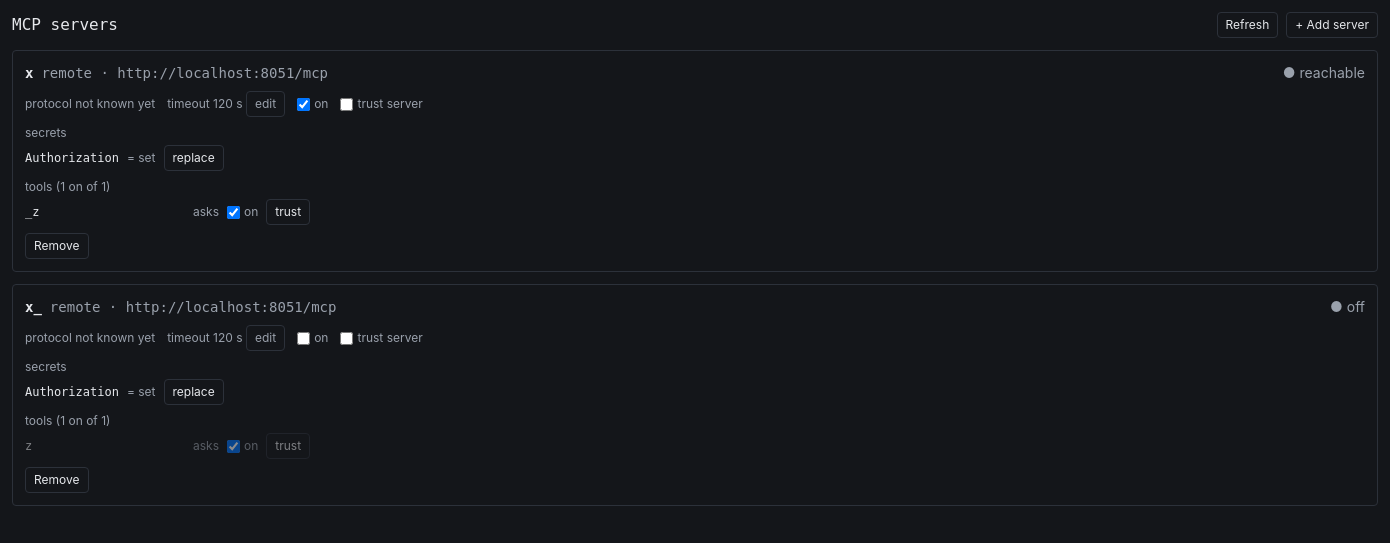
Test case: a tool action names the tool's own server when two servers share a zygos name
Step 1. Click the button "trust" below "x_" → (288, 446), box [266,433,310,459]
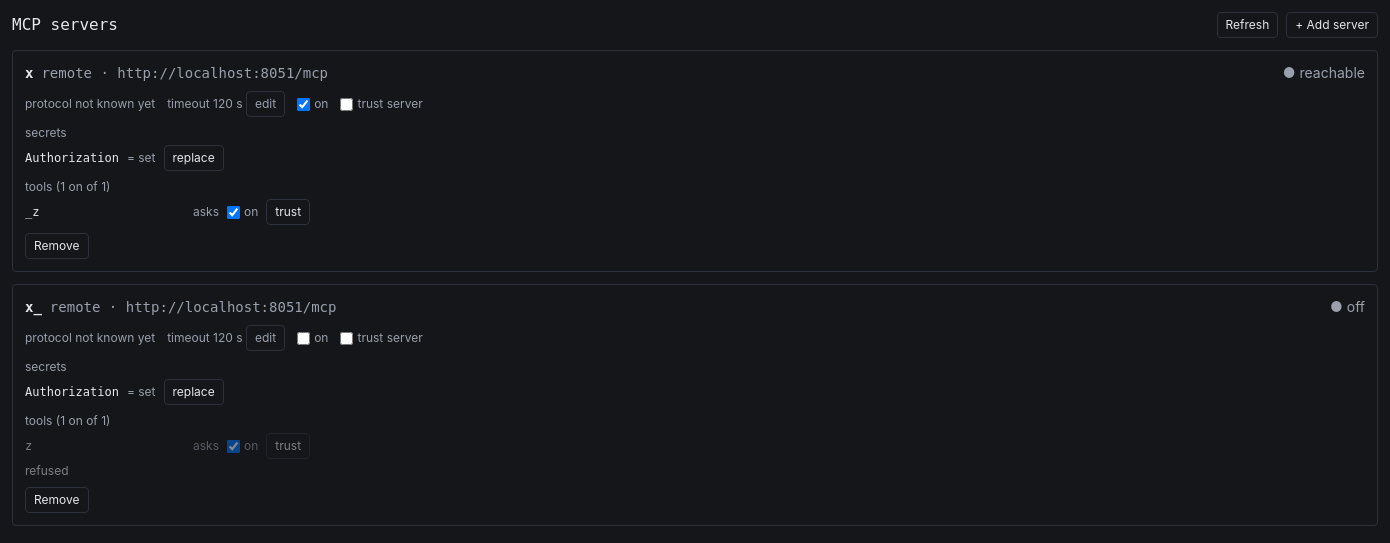
Check: the text "refused" is shown, box [25,463,68,478]
